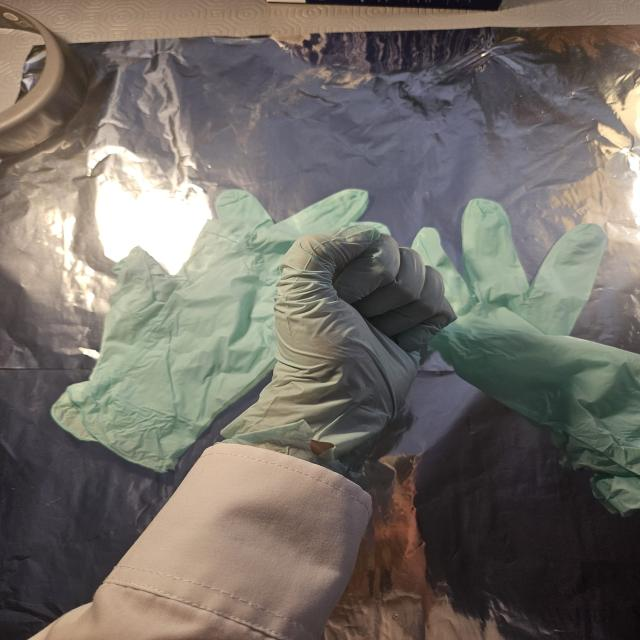gloves_damaged: (222, 222, 460, 481)
